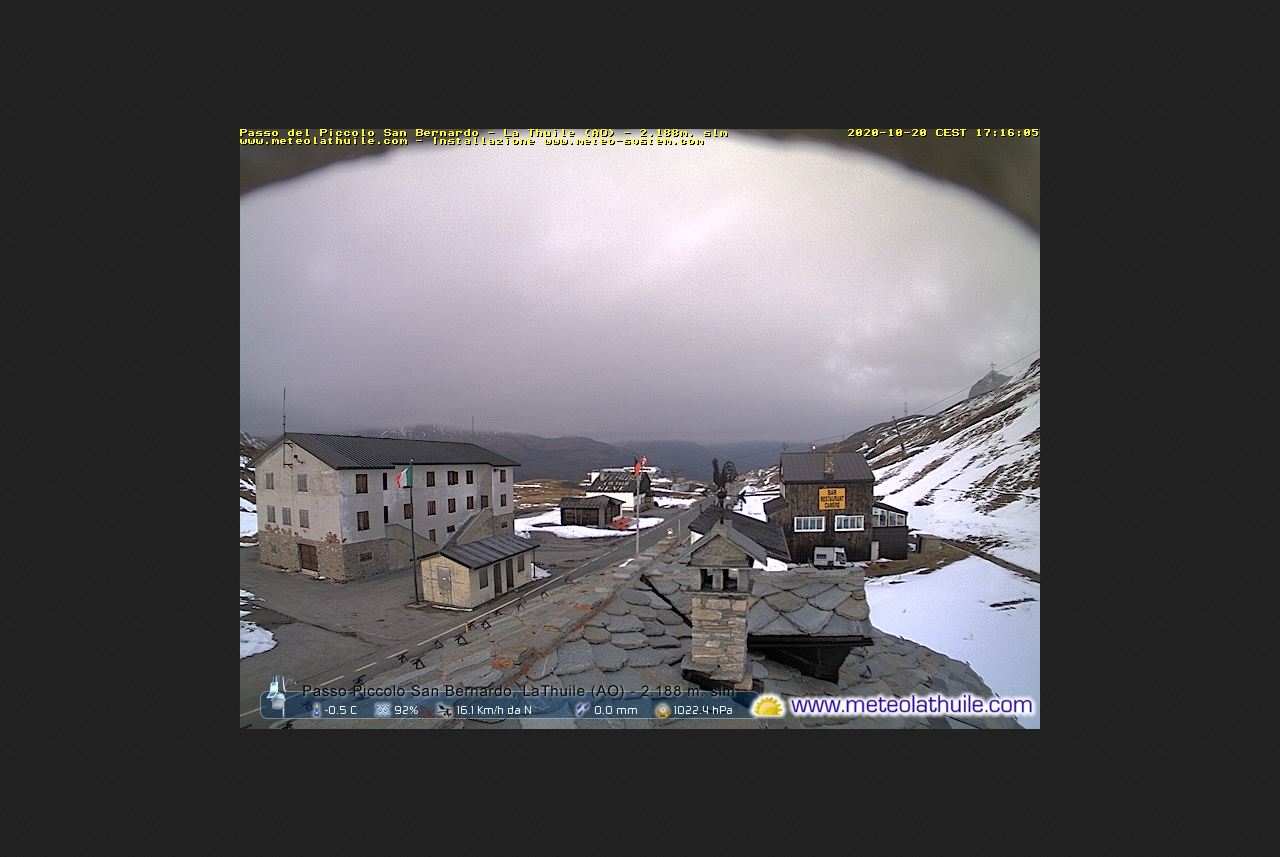maybe: (631, 460, 641, 476), (641, 454, 647, 469)
yes: (394, 464, 415, 491)
